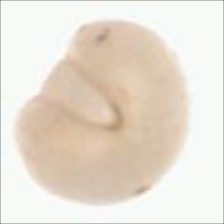L5: (30, 55, 124, 134), (121, 149, 183, 206)
L6: (12, 19, 193, 206)
